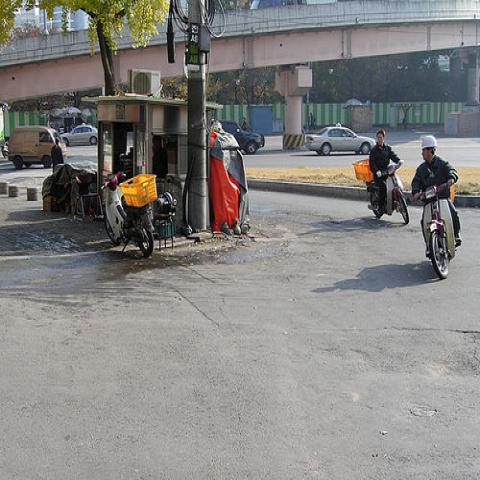car: (304, 126, 378, 156), (59, 120, 99, 146)
motorcycle: (99, 171, 155, 257), (420, 181, 456, 280), (364, 163, 408, 220), (80, 198, 104, 225)
truck: (3, 126, 70, 170), (219, 120, 265, 153)
